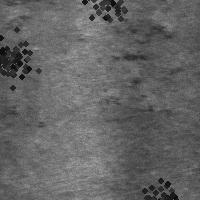rolled-in_scale: (100, 3, 175, 62), (0, 27, 42, 91), (101, 76, 155, 119), (74, 0, 136, 32), (133, 172, 189, 200), (1, 104, 48, 129)
